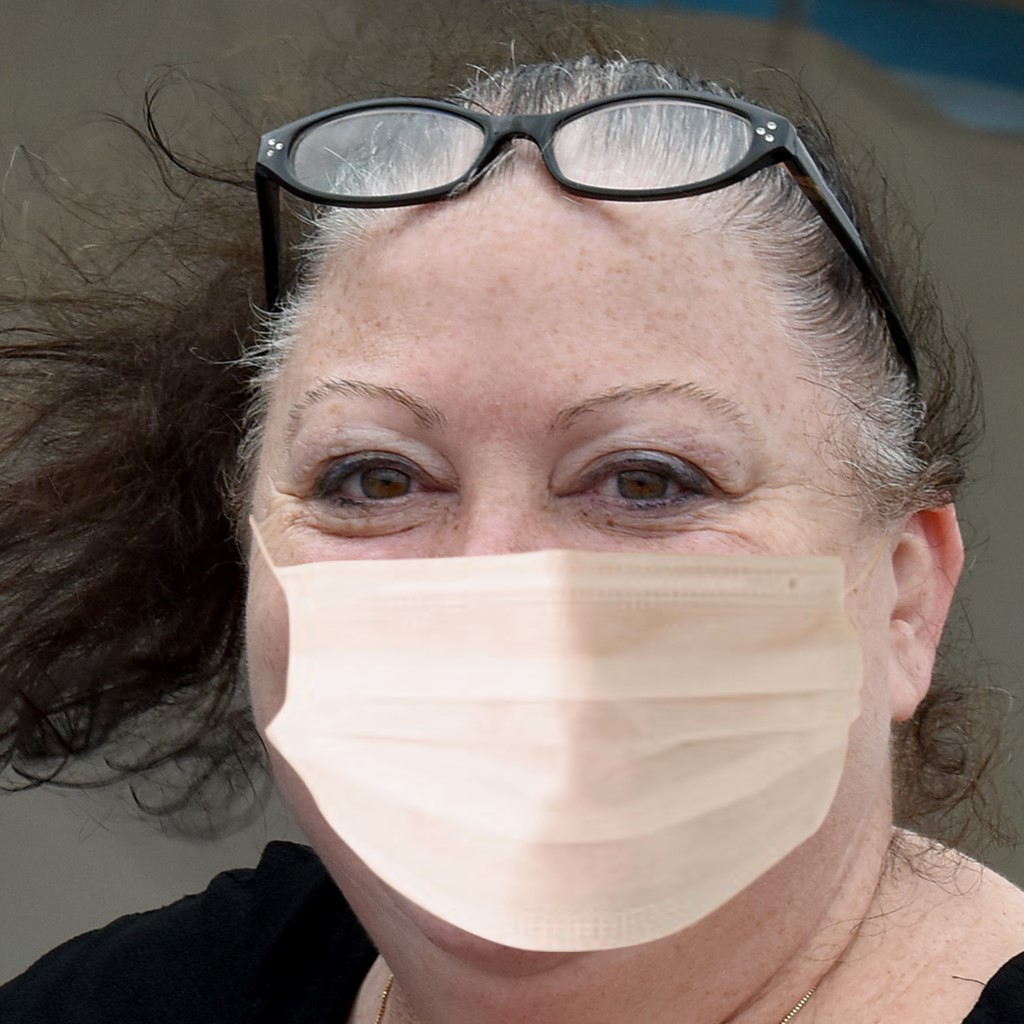con_mascara: (228, 96, 925, 975)
